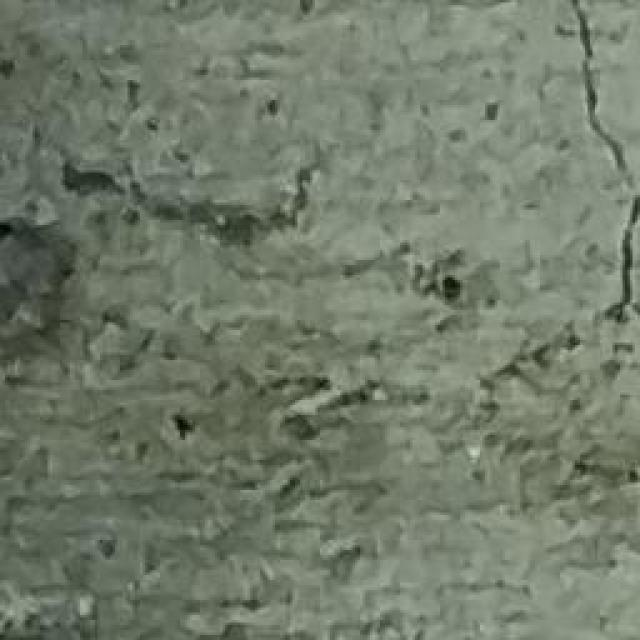Longitudinal: (555, 0, 640, 330)
